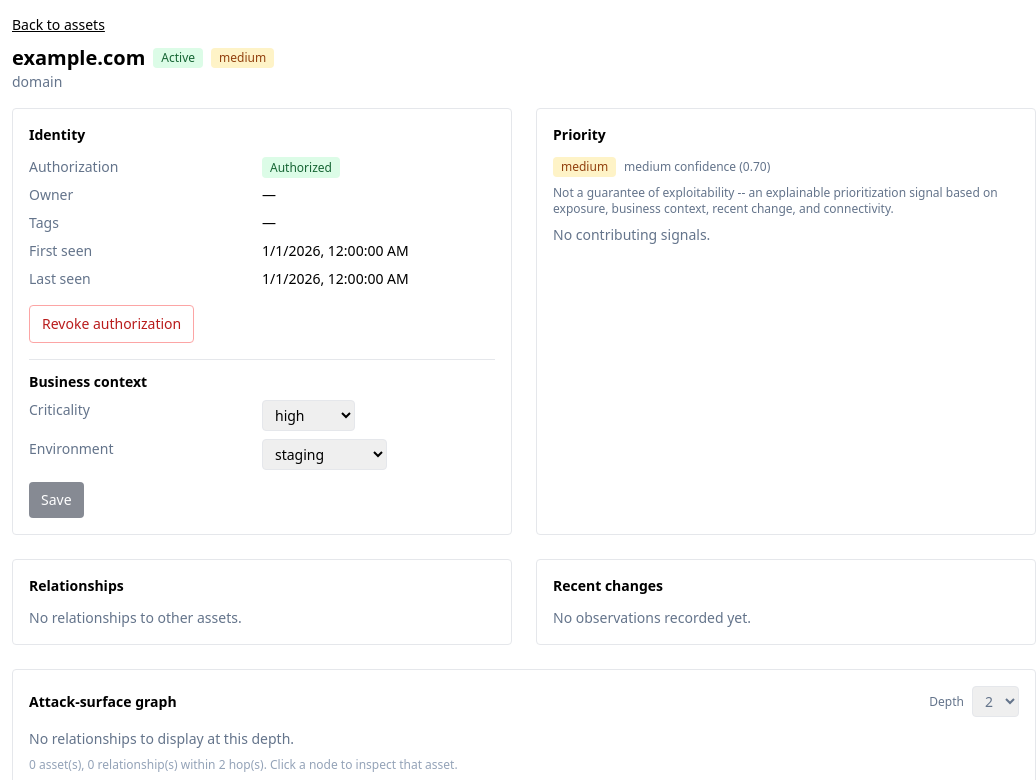
it: AssetDetailPage business context (Stage A.1) › only enables Save while a value differs from what's stored
Check: the button "Save" is disabled, box x1=29 y1=482 x2=84 y2=518
Select "production" in the dropdown named "Environment" at (324, 454), box x1=262 y1=439 x2=387 y2=470
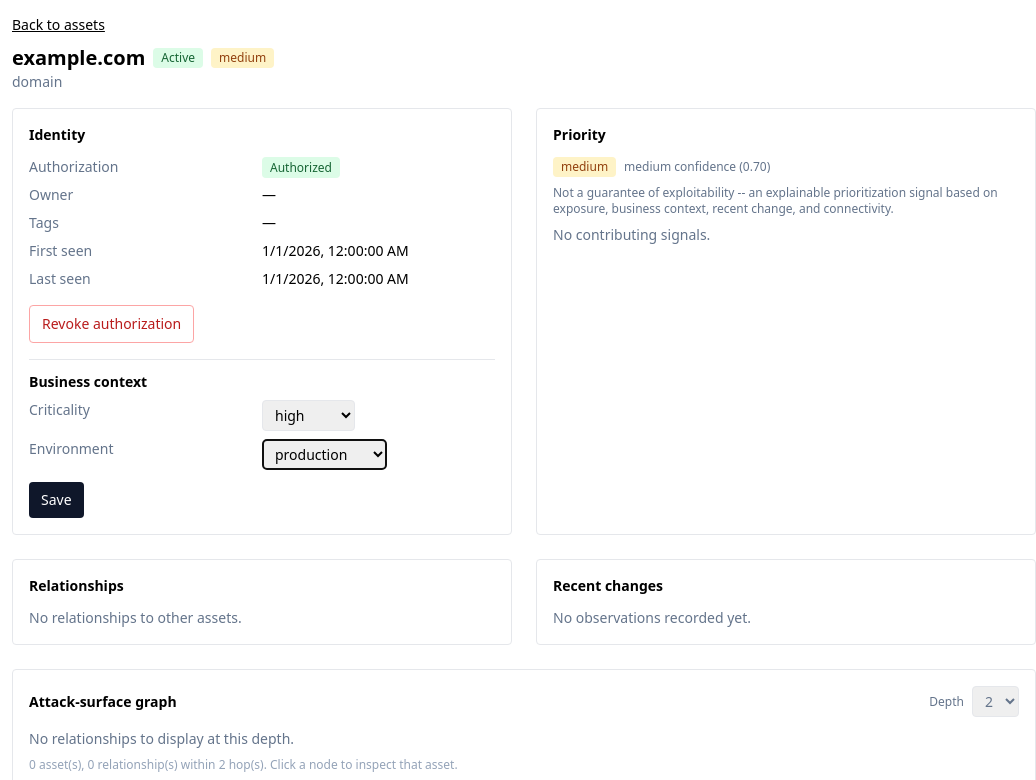
Check: the button "Save" is enabled, box x1=29 y1=482 x2=84 y2=518
Select "staging" in the dropdown named "Environment" at (324, 454), box x1=262 y1=439 x2=387 y2=470
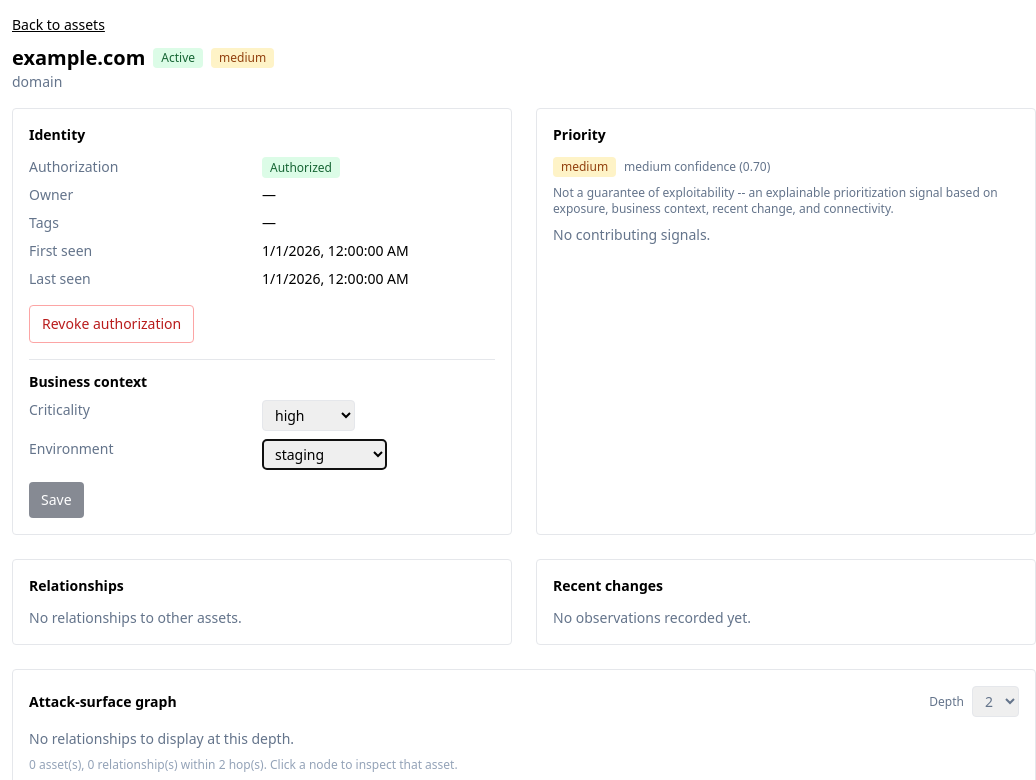
Check: the button "Save" is disabled, box x1=29 y1=482 x2=84 y2=518
